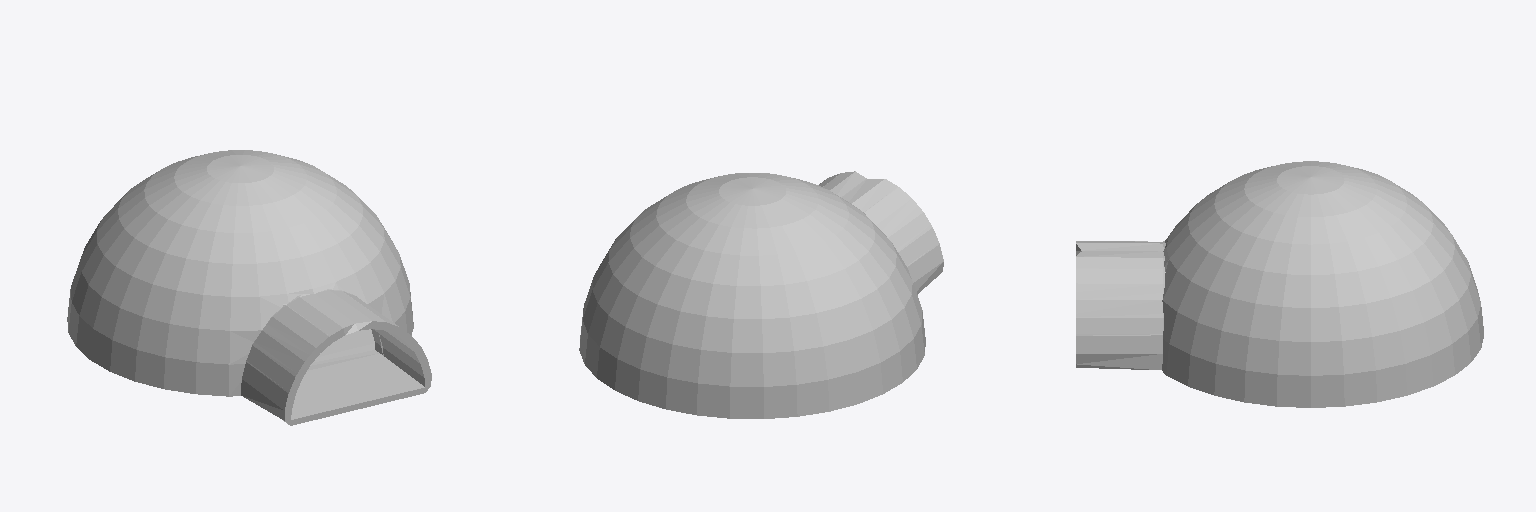
File: igloo.obj
3 renders of one model, left to right at view 1: azimuth 30°, elevation 25°; view 2: azimuth 150°, elevation 25°; view 3: azimuth 270°, elevation 25°, orthographic.
Visible parts, largest first — view 1: Igloo; view 2: Igloo; view 3: Igloo.
Part boxes in pixels (x1,y1,x2,y2): Igloo: (67,150,431,425); Igloo: (579,171,943,418); Igloo: (1076,161,1483,407).
Size of the model in its own units: 4 by 2 by 4.71.